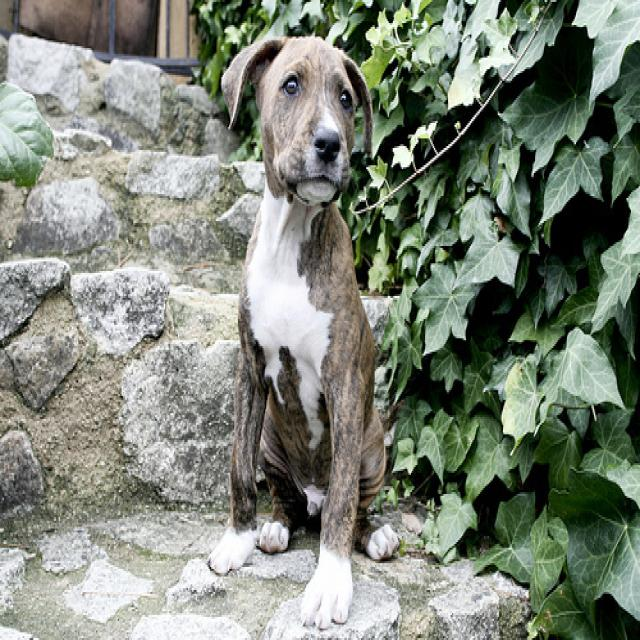dog-staffordshire_bull_terrier: (204, 31, 404, 636)
